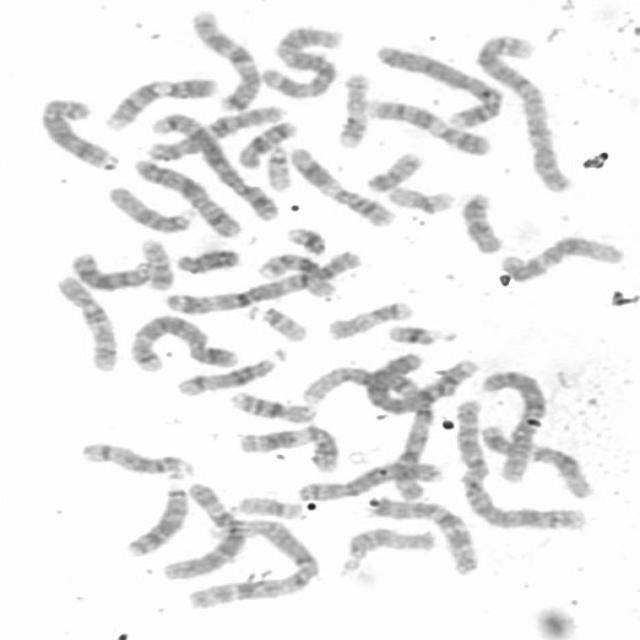A1: (294, 360, 432, 502), (180, 514, 319, 611)
A2: (451, 391, 590, 534), (473, 28, 580, 194)
A3: (161, 245, 364, 316), (259, 20, 343, 100)
B4: (369, 39, 505, 130), (359, 345, 481, 415)
B5: (145, 108, 282, 221), (124, 308, 244, 373)
C10: (142, 101, 286, 163), (50, 270, 121, 374)
C11: (284, 143, 398, 229), (233, 420, 343, 473)
C12: (475, 420, 597, 502), (494, 231, 628, 283)
C6: (157, 478, 249, 582), (477, 365, 548, 484)
C7: (362, 492, 482, 577), (185, 5, 266, 113)
C8: (293, 456, 445, 502), (33, 92, 120, 172)
C9: (362, 94, 495, 158), (99, 70, 222, 132)
D13: (120, 480, 193, 559), (68, 247, 158, 293)
D14: (173, 343, 290, 398), (75, 437, 197, 480)
D15: (336, 524, 438, 574), (103, 181, 196, 235)
E16: (250, 247, 339, 300), (224, 386, 320, 424)
E17: (323, 295, 418, 341), (331, 68, 373, 150)
E18: (232, 116, 299, 170), (456, 187, 508, 256)
F19: (382, 180, 458, 216), (234, 491, 305, 521)
F20: (360, 147, 426, 194), (135, 234, 176, 292)
G21: (381, 319, 460, 347), (281, 222, 330, 257)
G22: (252, 301, 310, 344), (261, 142, 294, 193)
X: (130, 154, 245, 238)
Y: (170, 243, 243, 276)
